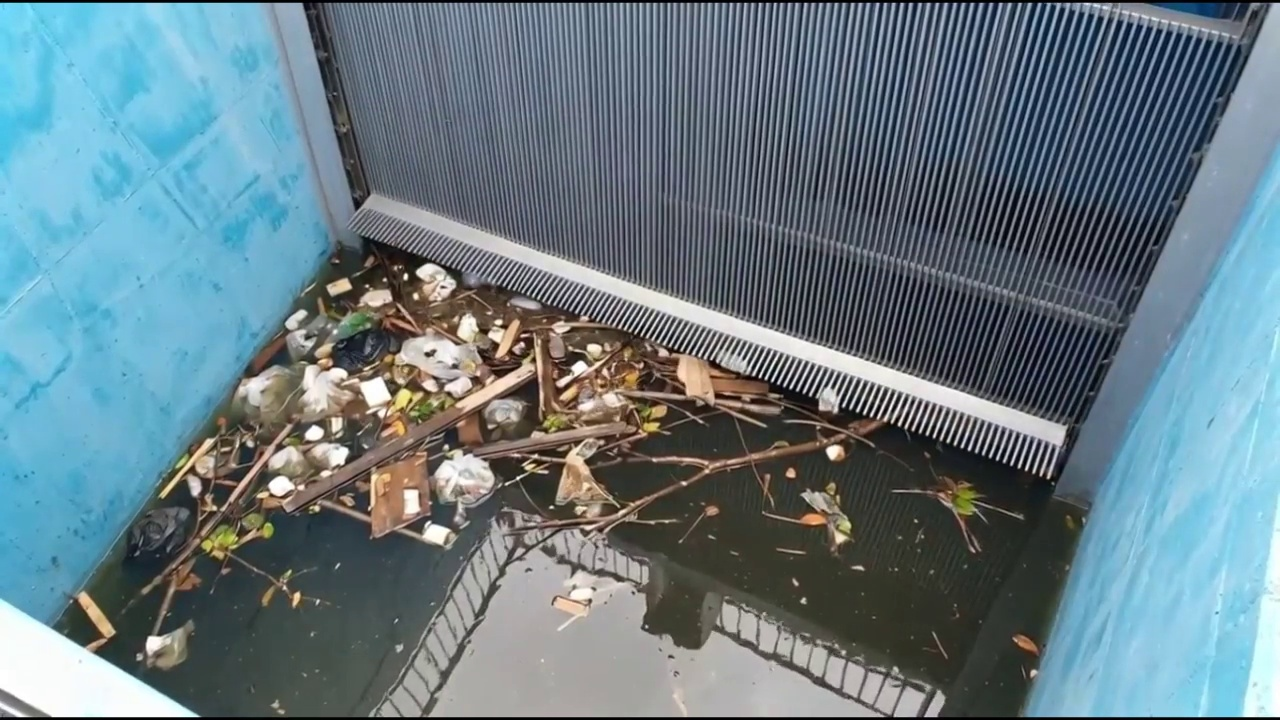debris: (112, 258, 886, 561)
